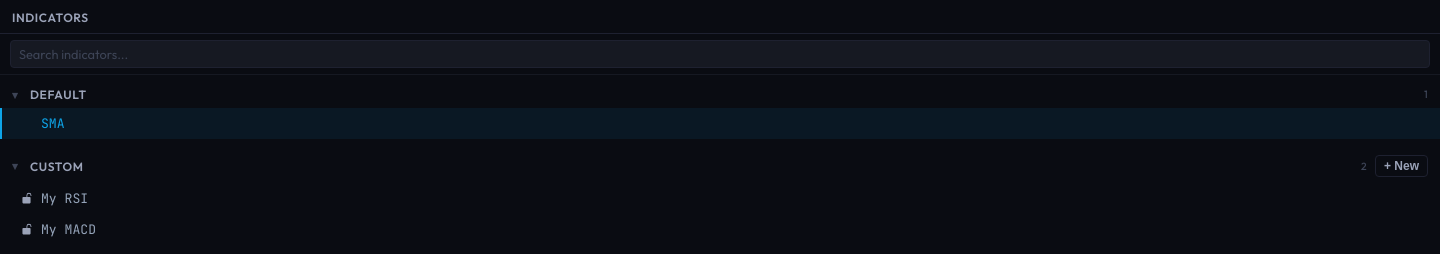
Test: <IndicatorsList> › keeps + New visible when CUSTOM is collapsed
The width and height of the screenshot is (1440, 254).
Collapse CUSTOM.
Click the button with test id "category-custom".
click(57, 166)  # box x1=0 y1=147 x2=1439 y2=181
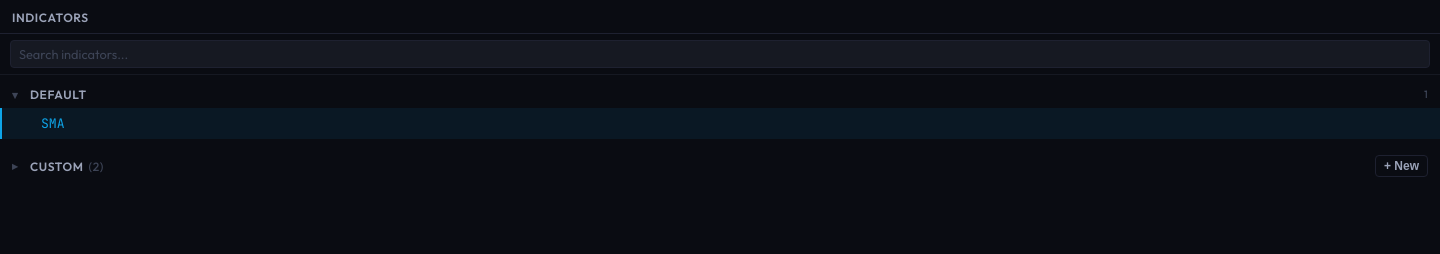
Expected: the button with aria-label "new indicator" is shown, x1=1375 y1=155 x2=1428 y2=177
Expected: the button "My RSI" is gone
